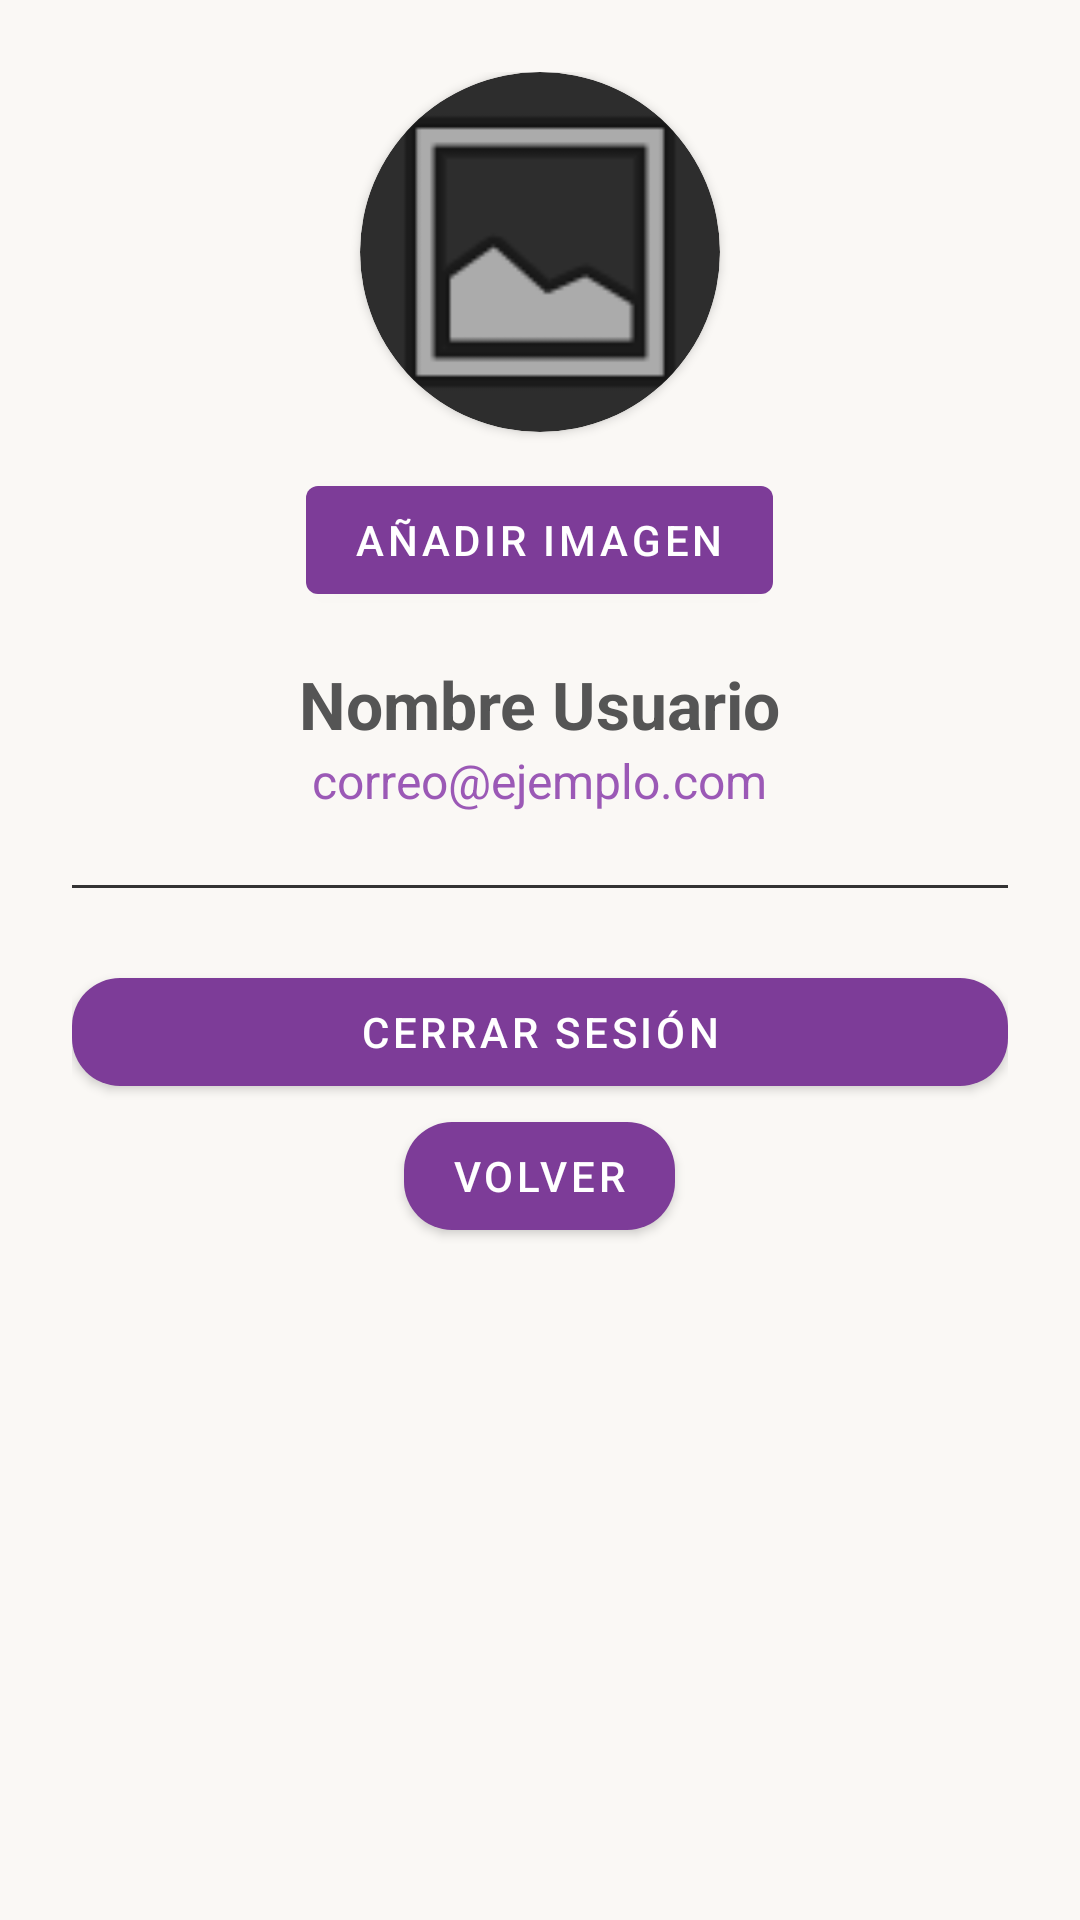

Icons on this 1080 x 1920 Android screen, each with its box as (x1, y1, x2, y2):
gallery: (360, 72, 720, 432)
